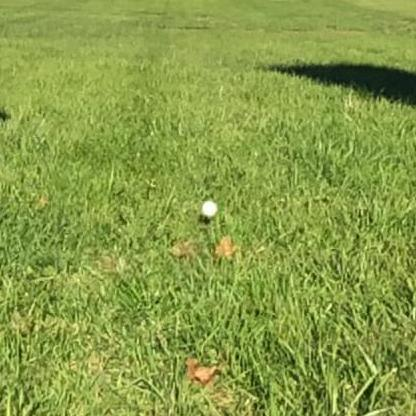golfball: (197, 197, 218, 218)
